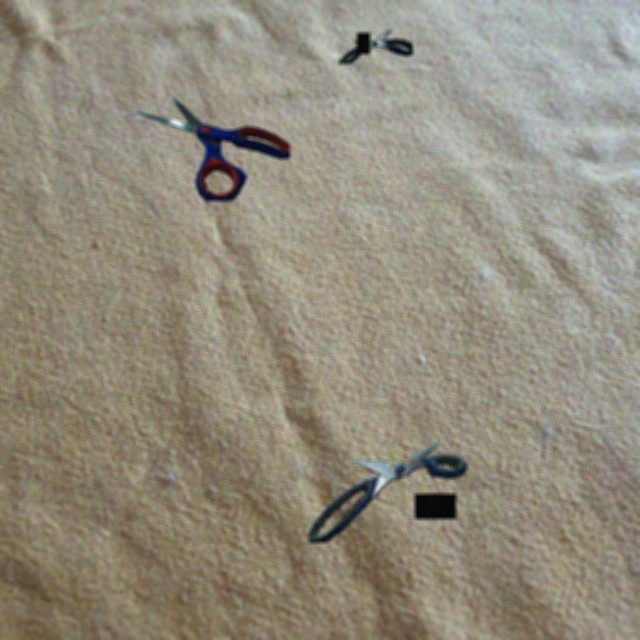scissors: (309, 440, 467, 543), (136, 97, 290, 201), (338, 29, 413, 64)
